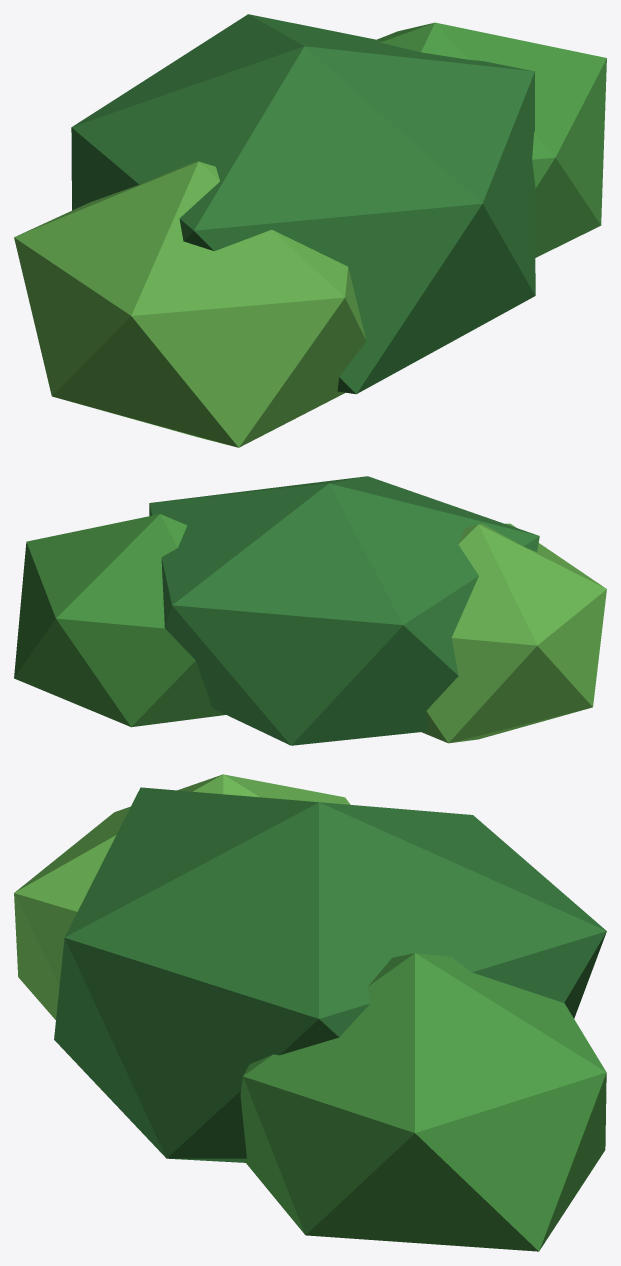
File: bush.glb
The picture shows the model from 3 angles, top to bottom: view 1: azimuth 30°, elevation 25°; view 2: azimuth 150°, elevation 25°; view 3: azimuth 270°, elevation 25°; orthographic projection. The views are drawn at different scales.
Visible parts, largest first — view 1: bush; view 2: bush; view 3: bush.
Boxes of the visible parts, box(x1,y1,x2,y2) form: bush: box(14, 14, 606, 447); bush: box(14, 476, 606, 745); bush: box(14, 774, 606, 1251).
Size of the model in its own units: 0.2586 by 0.1257 by 0.1854.
